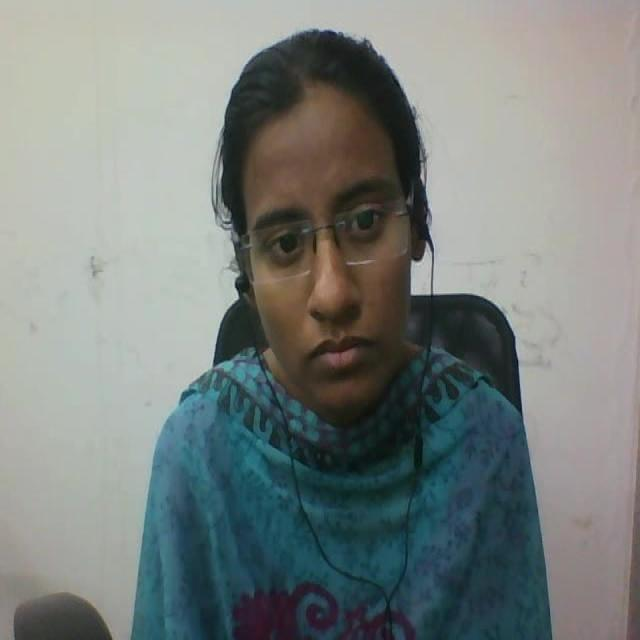Engaged: (174, 0, 454, 442)
